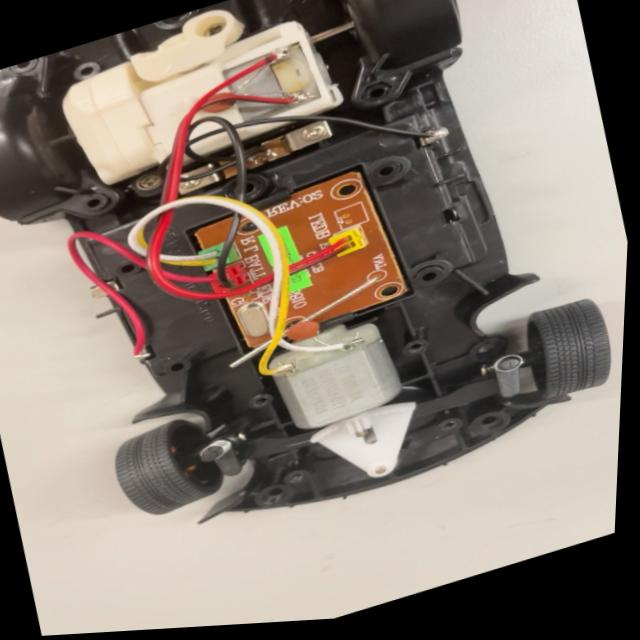motor: (272, 309, 411, 437)
wheel: (505, 281, 626, 417), (104, 409, 229, 530)
